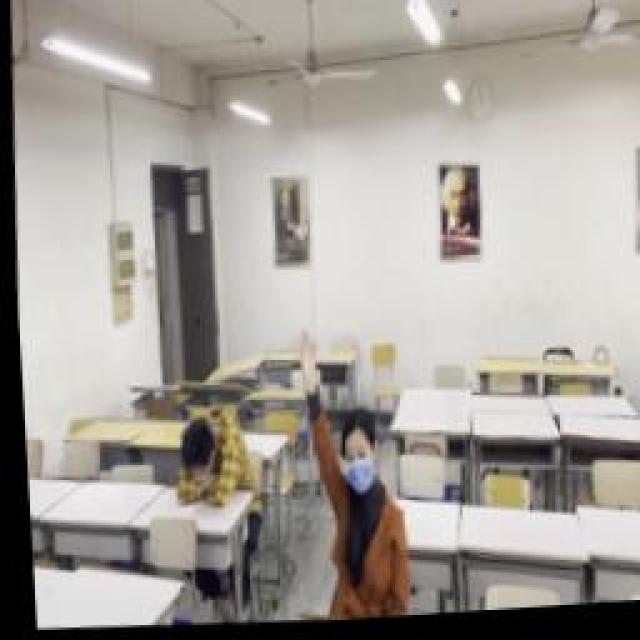sleep: (162, 398, 252, 510)
study: (282, 325, 410, 623)
